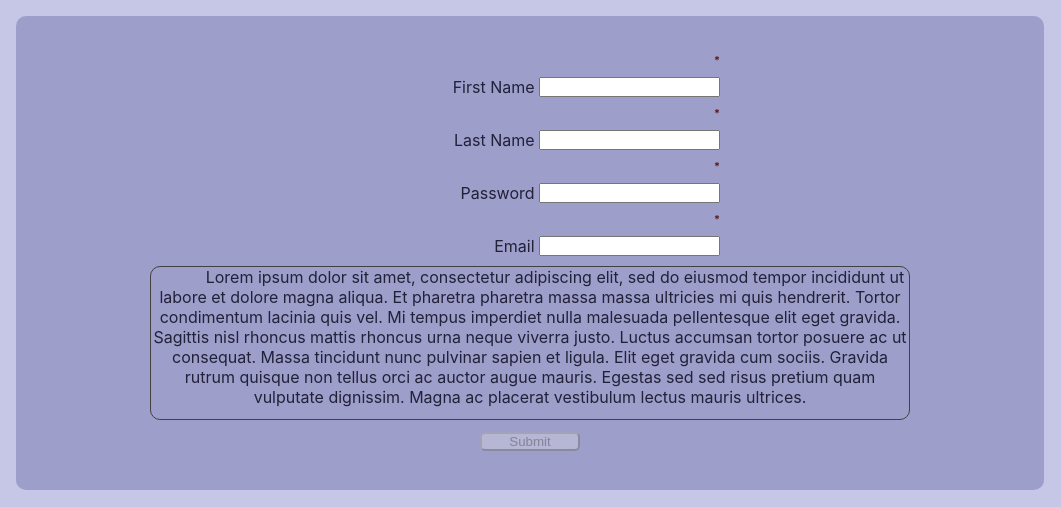
Test: jzform › Filling out Form and Submit › ERROR check: first name must not be less than 3 characters
In the field named "first_name": (630, 88) [539, 78, 720, 98], type "na"
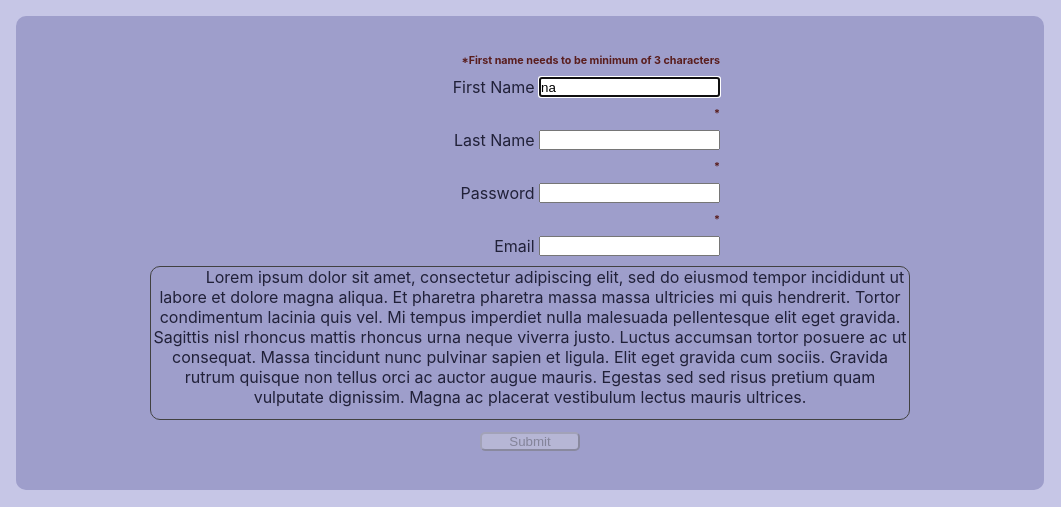
Expected: the heading "First name needs to be minimum of 3 characters" is shown, [469, 54, 720, 67]
